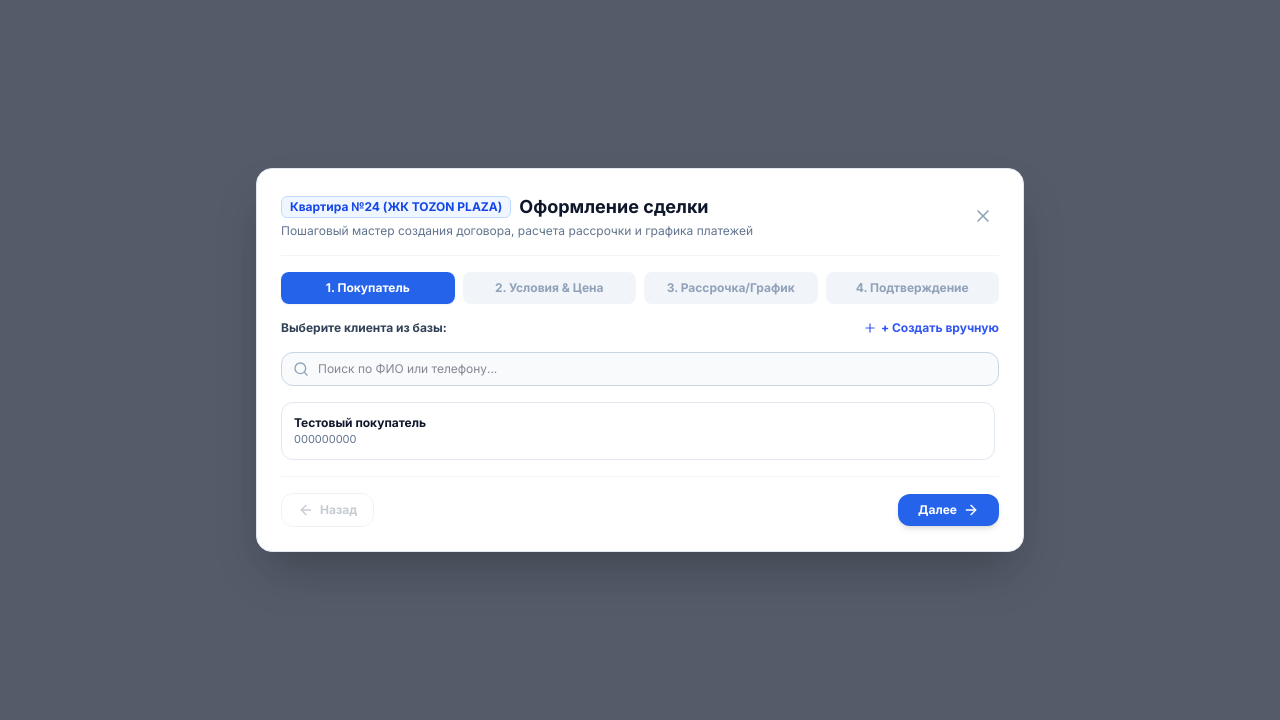
initial buyer receipt cash desk › requires an explicit desk and does not create a contract without one
Click the text "Тестовый покупатель". click: {"x": 360, "y": 423}
box: left=294, top=415, right=426, bottom=431
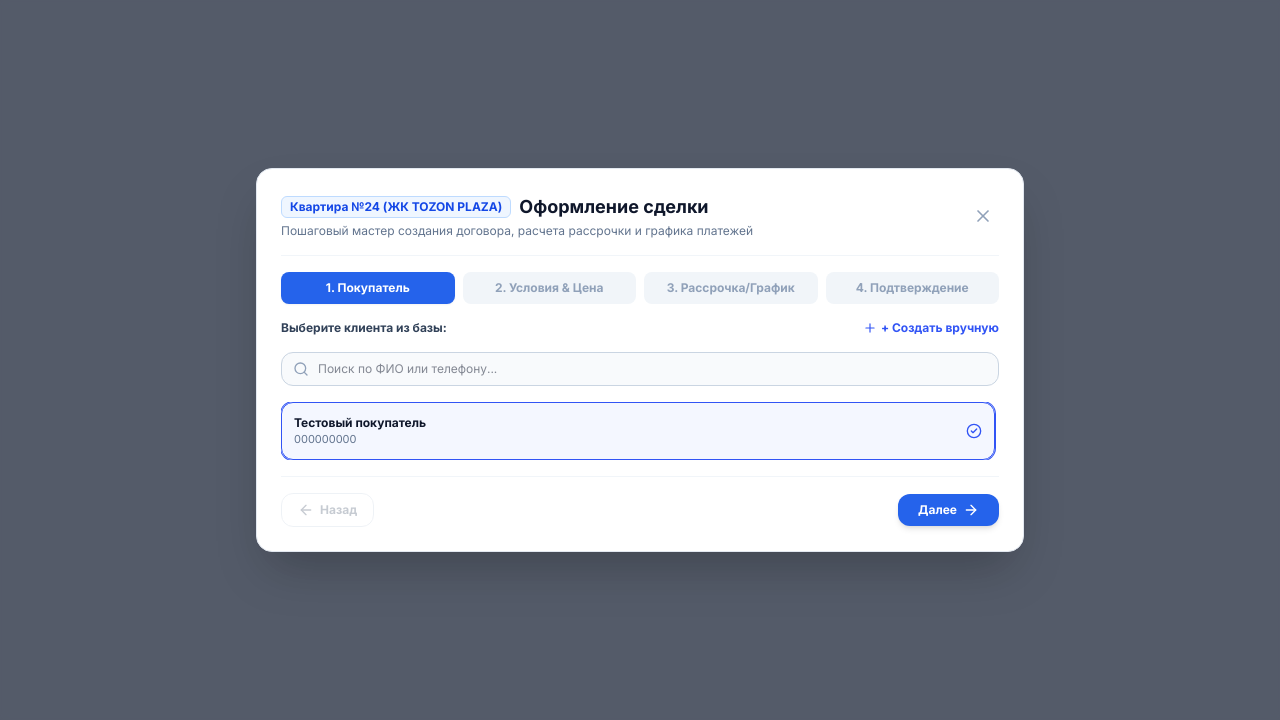
Click the button "Далее". click: {"x": 949, "y": 510}
box: left=898, top=494, right=999, bottom=526
(page scrolled)
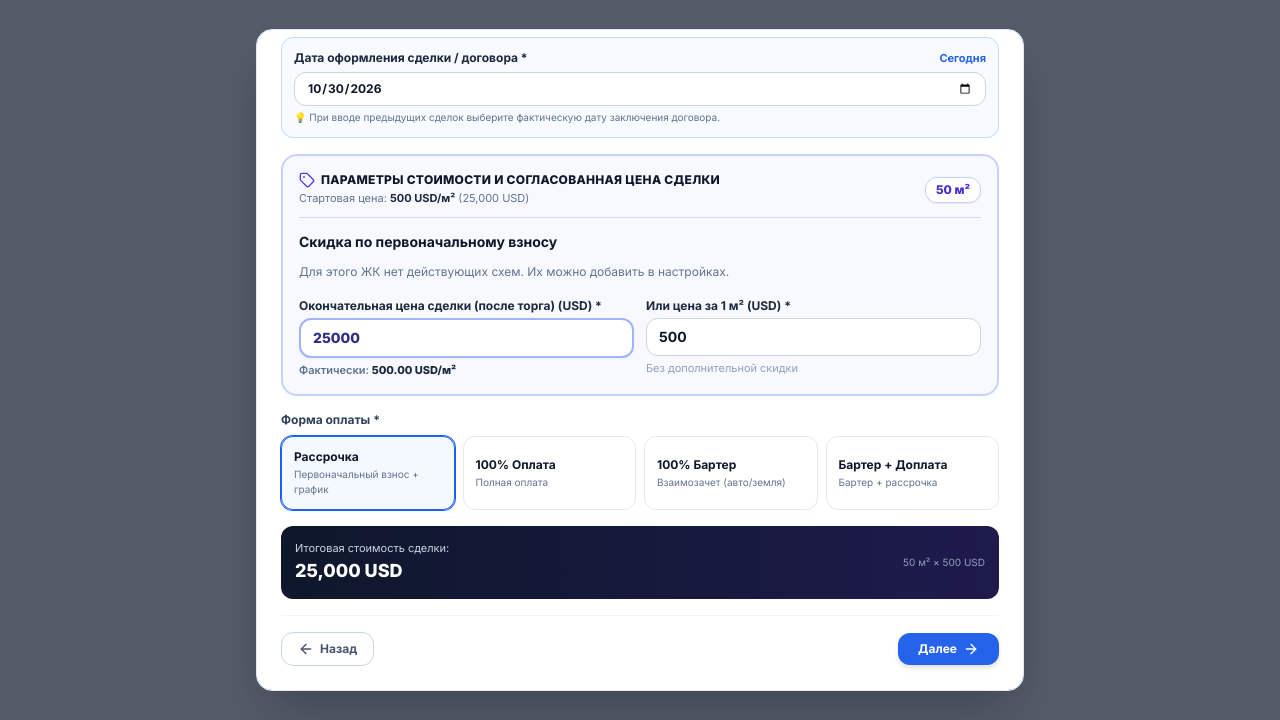
Click the button "Далее". click: {"x": 949, "y": 649}
box: left=898, top=633, right=999, bottom=665
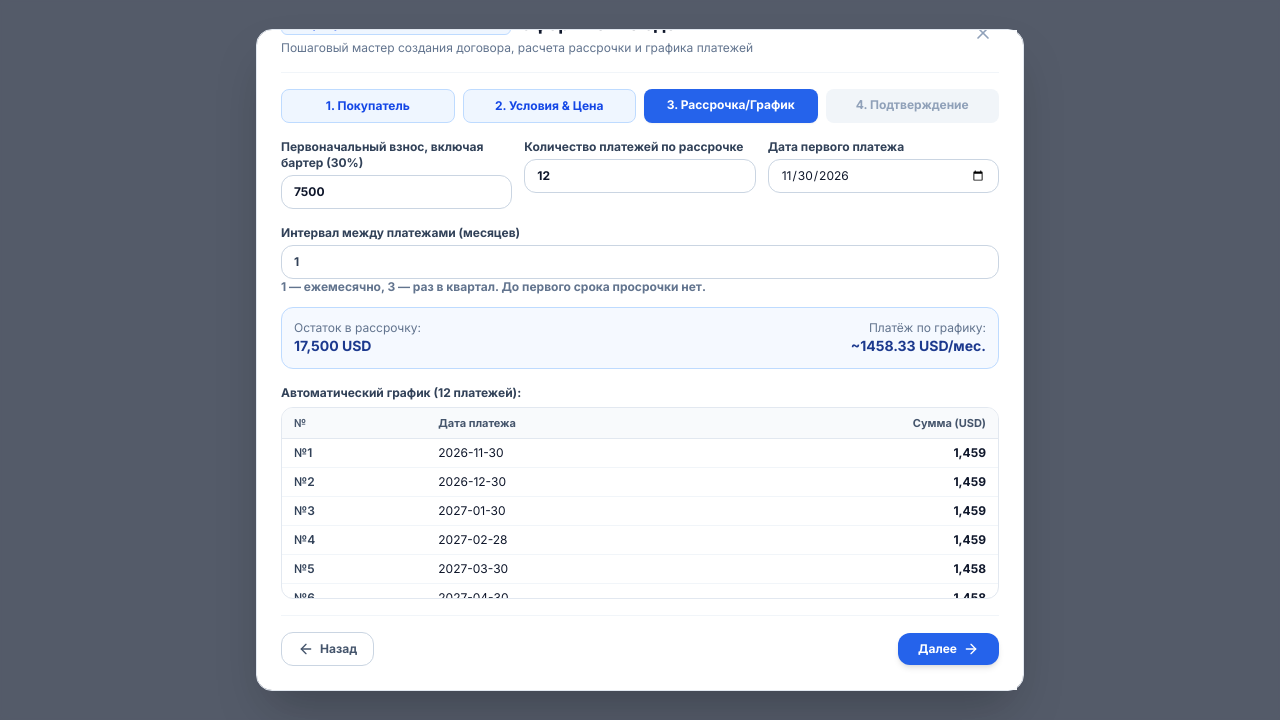
Click the button "Далее". click: {"x": 949, "y": 649}
box: left=898, top=633, right=999, bottom=665
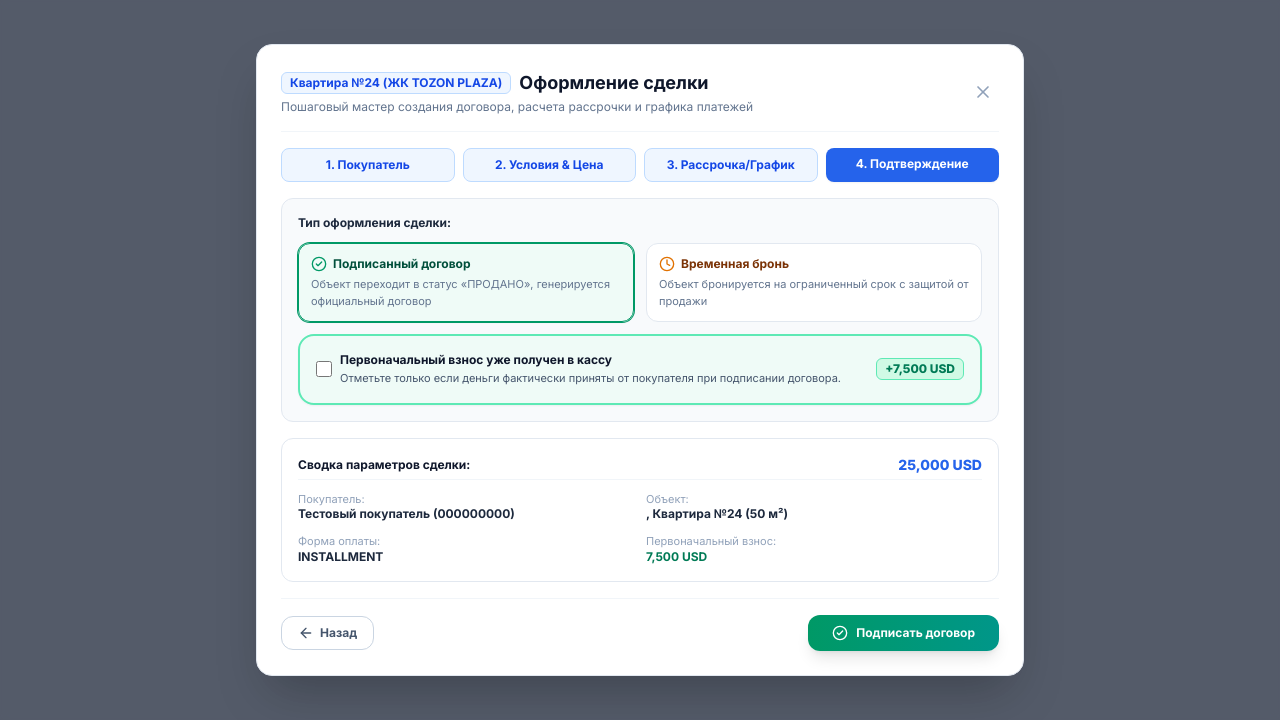
Click the checkbox labelled "Первоначальный взнос уже получен в кассу". click: {"x": 324, "y": 369}
box: left=316, top=361, right=332, bottom=377
(page scrolled)
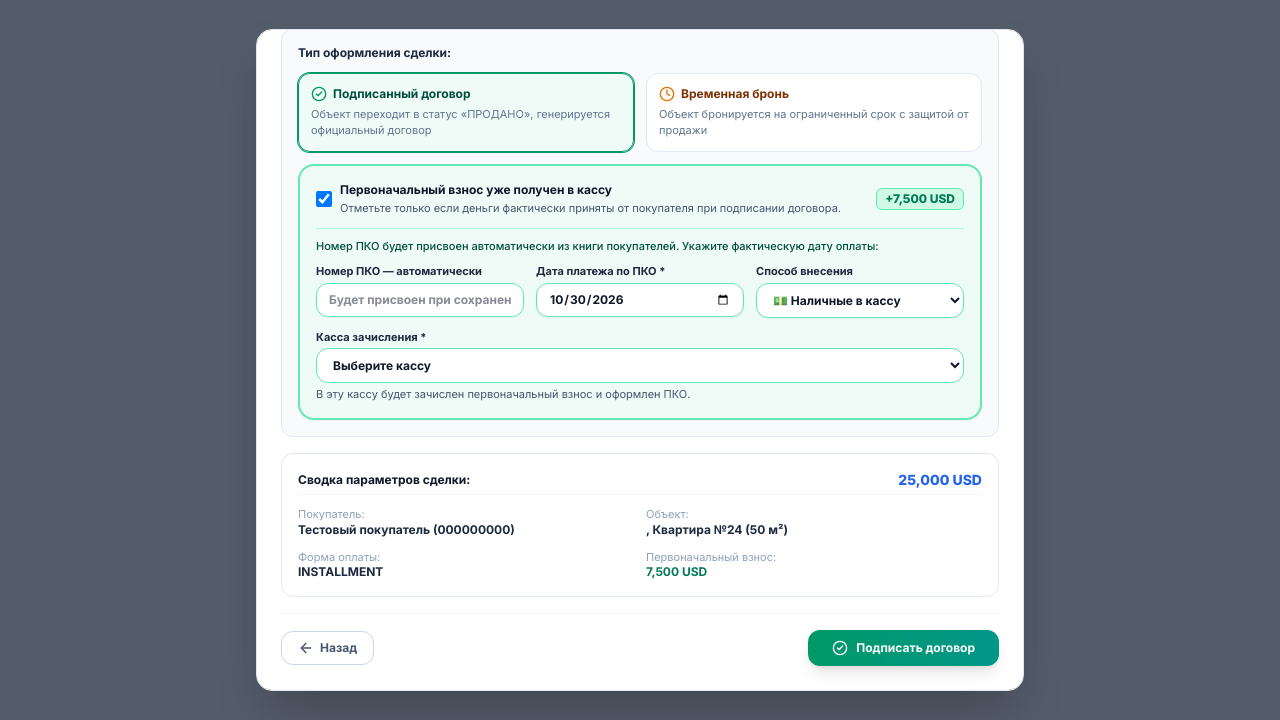
Click the button "Подписать договор". click: {"x": 904, "y": 648}
box: left=808, top=630, right=999, bottom=666
(page scrolled)
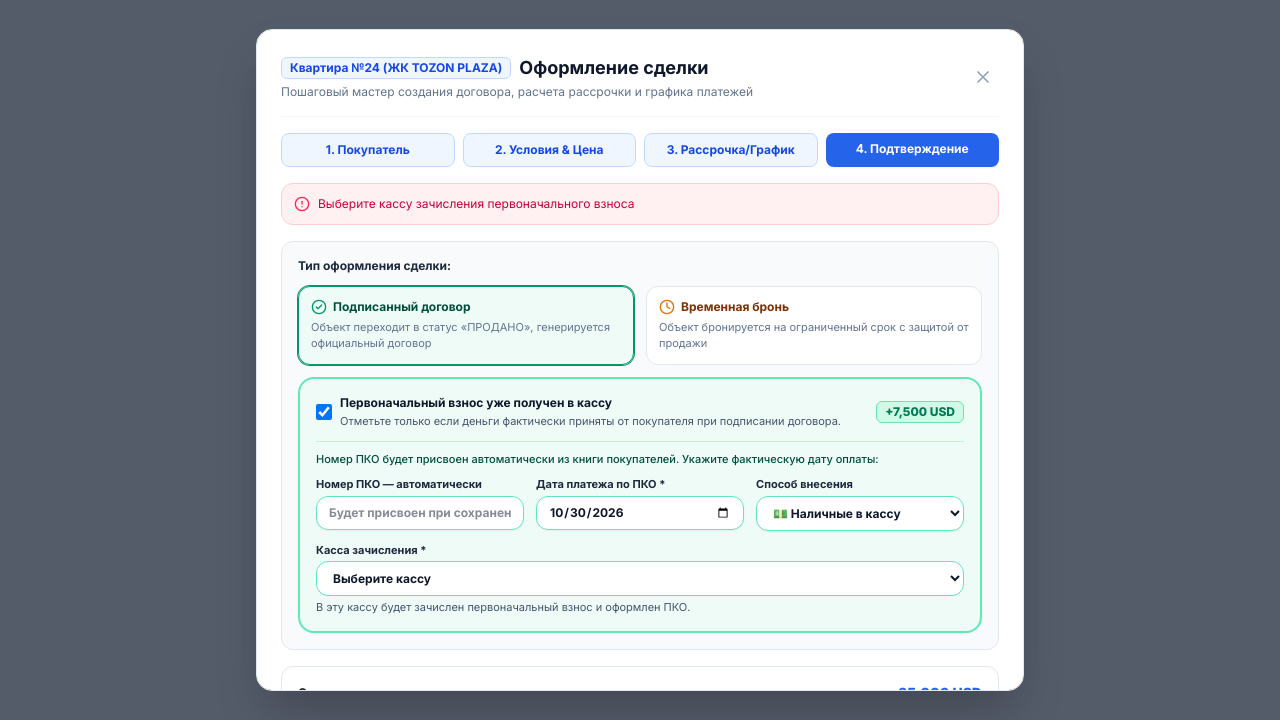
Expected: the text "Выберите кассу зачисления первоначального взноса" is shown, left=318, top=196, right=634, bottom=212
